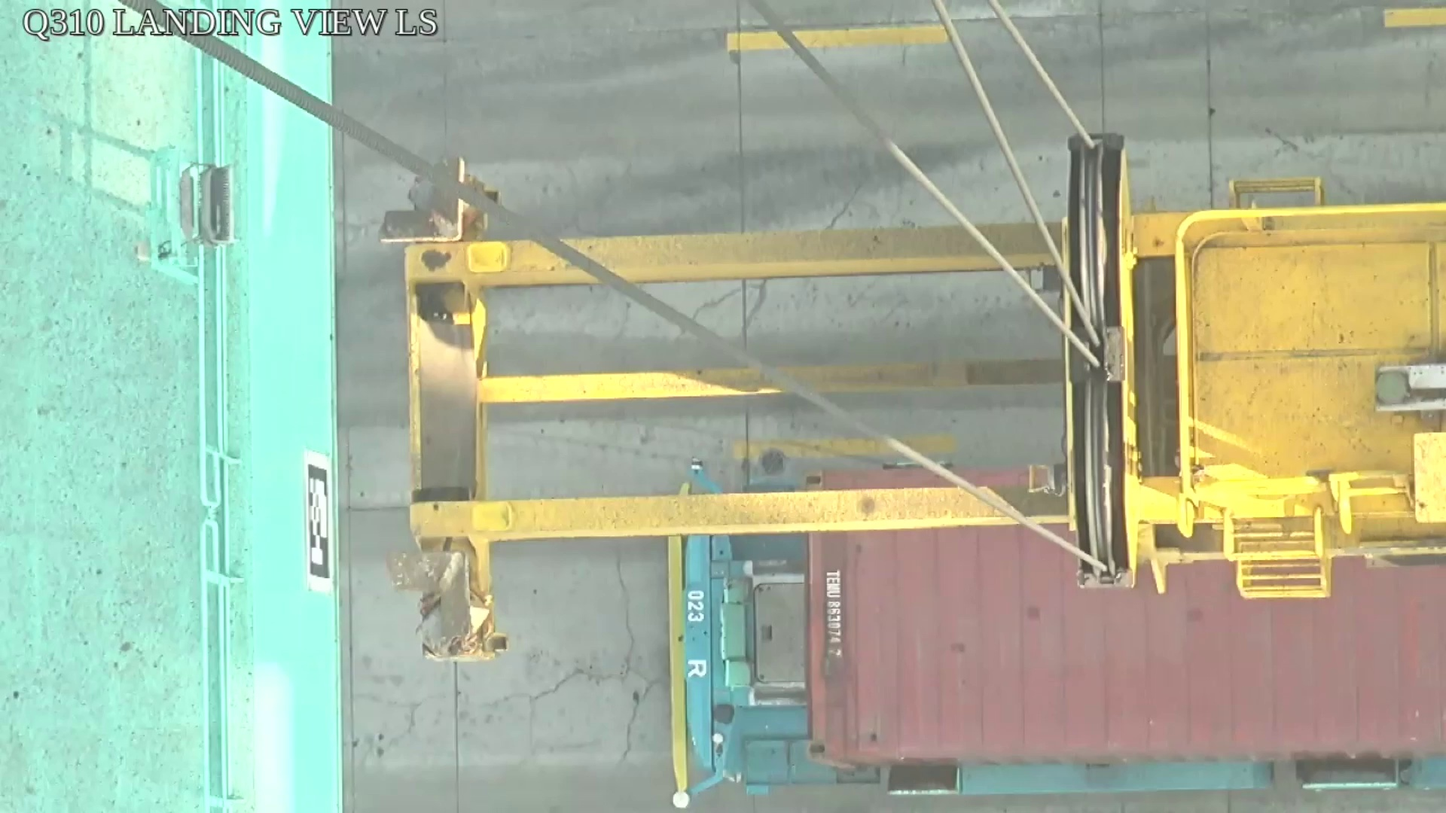aa: (1060, 132, 1138, 588)
